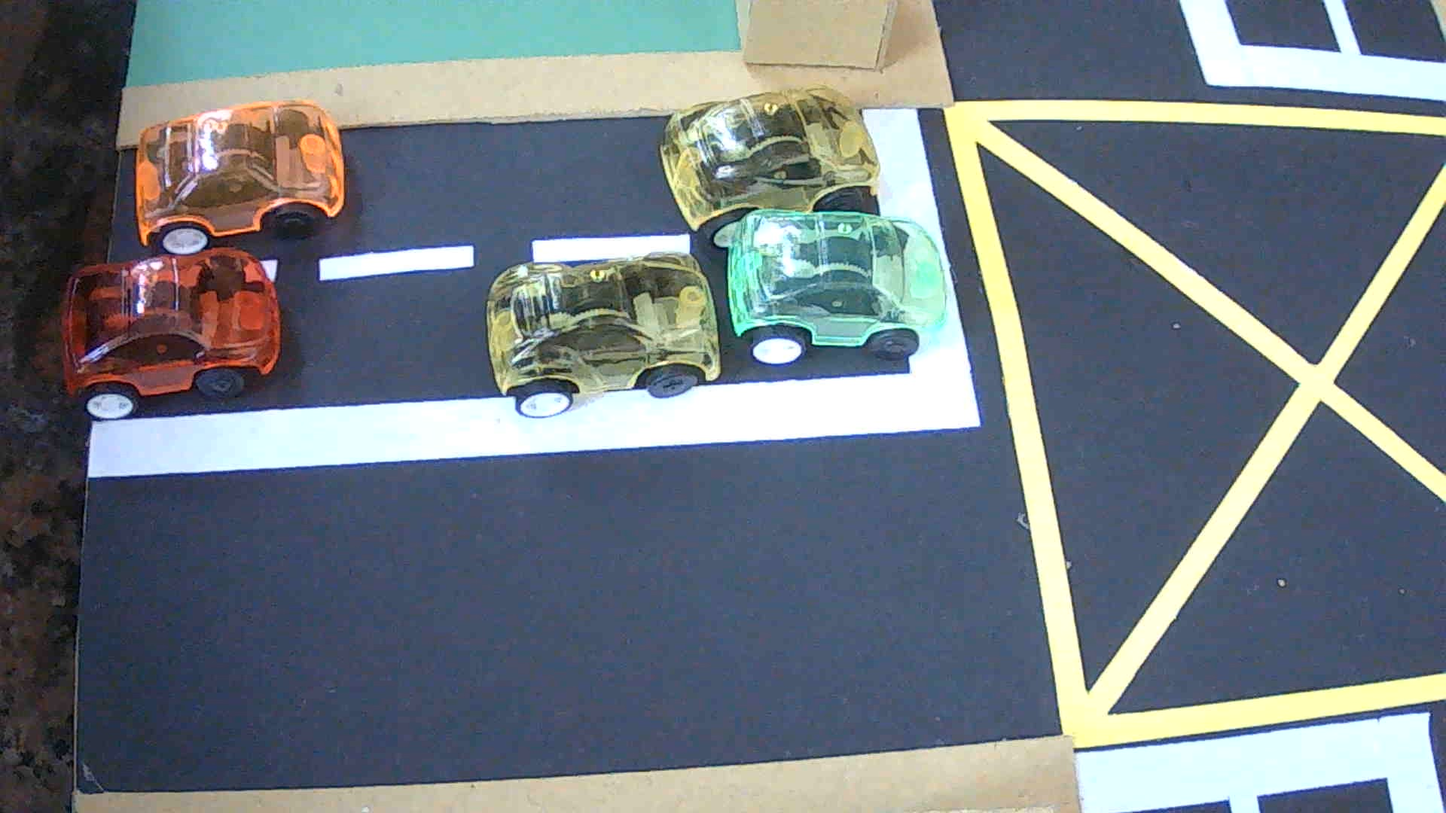Mobil hijau: (728, 210, 946, 364)
Mobil kuning: (487, 252, 720, 418), (659, 87, 879, 248)
Mobil merah: (61, 248, 281, 419)
Mobil orange: (135, 101, 344, 254)
